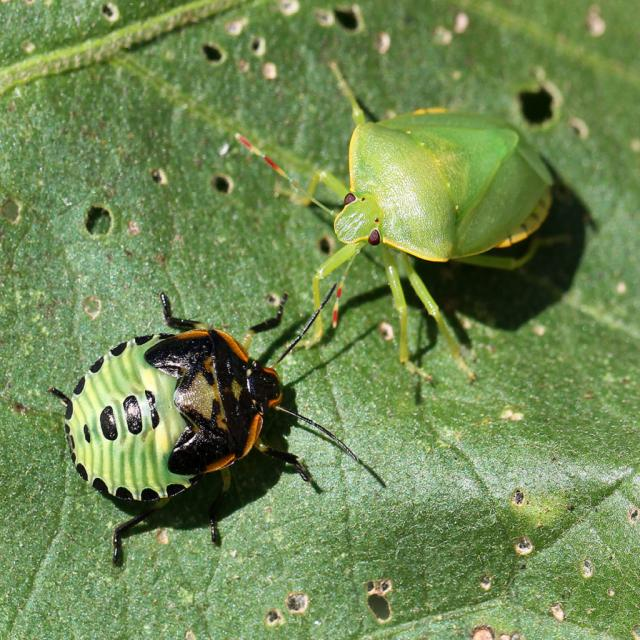stink_bug: (228, 46, 571, 374), (49, 297, 372, 559)
